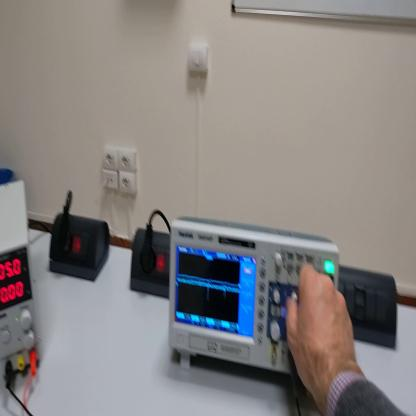hand: (285, 262, 358, 394)
oscilloscope: (168, 214, 337, 370)
power supply: (2, 179, 44, 384)
socket: (49, 211, 112, 283), (129, 227, 170, 300)
